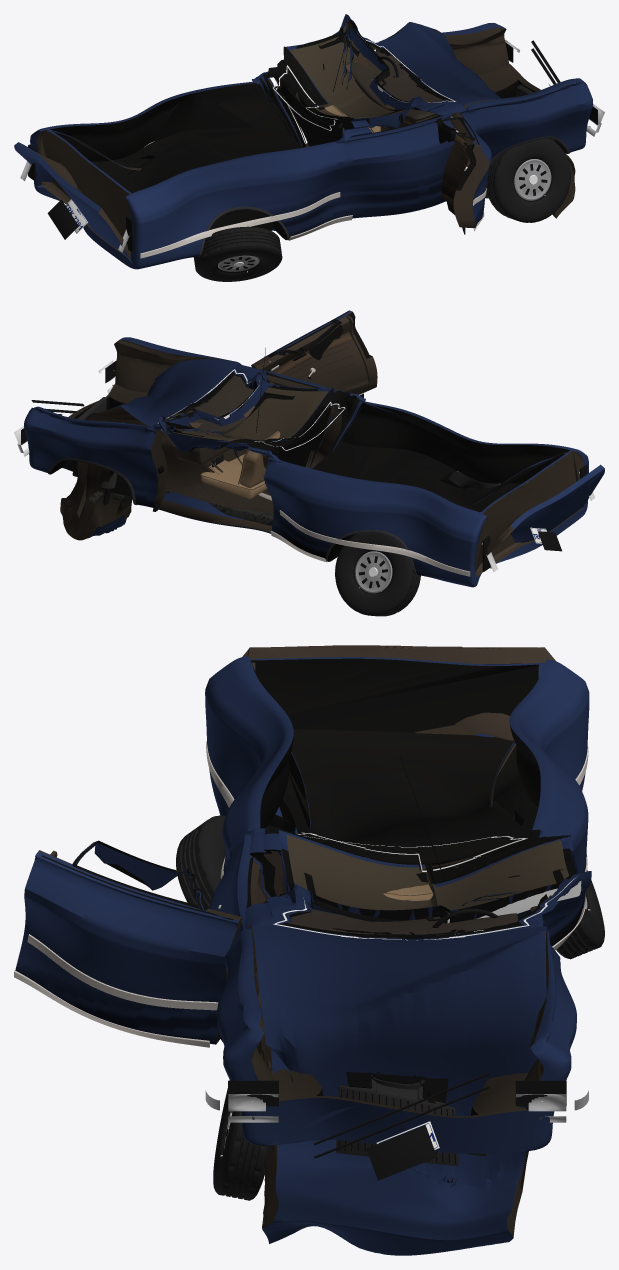
Rendered from pickup87_roll_d3.glb.
3 views of the same model, one above another, from view 1: azimuth 30°, elevation 25°; view 2: azimuth 150°, elevation 25°; view 3: azimuth 270°, elevation 25° (orthographic). The views are drawn at different scales.
Visible parts, largest first — view 1: Body, Wheel_FR_mesh, Hood, Door_FR, Wheel_RR_mesh, Interior, Tailgate, Ends, Trim, Glass, Trim_FR; view 2: Body, Hood, Wheel_RL_mesh, Door_FR, Interior, Tailgate, Trim, Ends, Underbody, Trim_FR, Glass, Engine (+1 smaller); view 3: Body, Hood, Door_FR, Ends, Tailgate, Engine, Trim_FR, Interior, Wheel_FR_mesh, Glass, Wheel_RR_mesh, Wheel_RL_mesh (+1 smaller).
Boxes of the visible parts, x1,y1,x2,y2 form: Body: (30,14,592,269); Wheel_FR_mesh: (486,138,570,222); Hood: (378,22,575,218); Door_FR: (435,112,491,228); Wheel_RR_mesh: (193,226,282,281); Interior: (325,52,443,134); Tailgate: (14,142,130,258); Ends: (20,39,604,252); Trim: (140,26,569,258); Glass: (273,19,455,130); Trim_FR: (441,113,486,234); Body: (24,337,588,587); Hood: (60,359,240,540); Wheel_RL_mesh: (335,532,420,616); Door_FR: (251,310,377,394); Interior: (170,376,280,498); Tailgate: (476,464,604,572); Trim: (47,348,500,576); Ends: (14,360,595,572); Underbody: (72,472,491,568); Trim_FR: (254,312,363,398); Glass: (157,369,345,450); Engine: (75,397,117,488); Body: (205,656,591,1153); Hood: (247,924,547,1255); Door_FR: (15,840,242,1044); Ends: (205,1073,588,1180); Tailgate: (242,645,556,740); Engine: (336,1071,458,1166); Trim_FR: (14,842,233,1047); Interior: (287,884,518,935); Wheel_FR_mesh: (213,1080,268,1200); Glass: (273,832,581,940); Wheel_RR_mesh: (176,815,225,908); Wheel_RL_mesh: (556,870,604,959).
Bounding box in the file's own units: 5.3 × 2.1 × 3.06.
28 materials, 5 textured.
